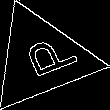P_SW: (9, 32, 74, 86)
